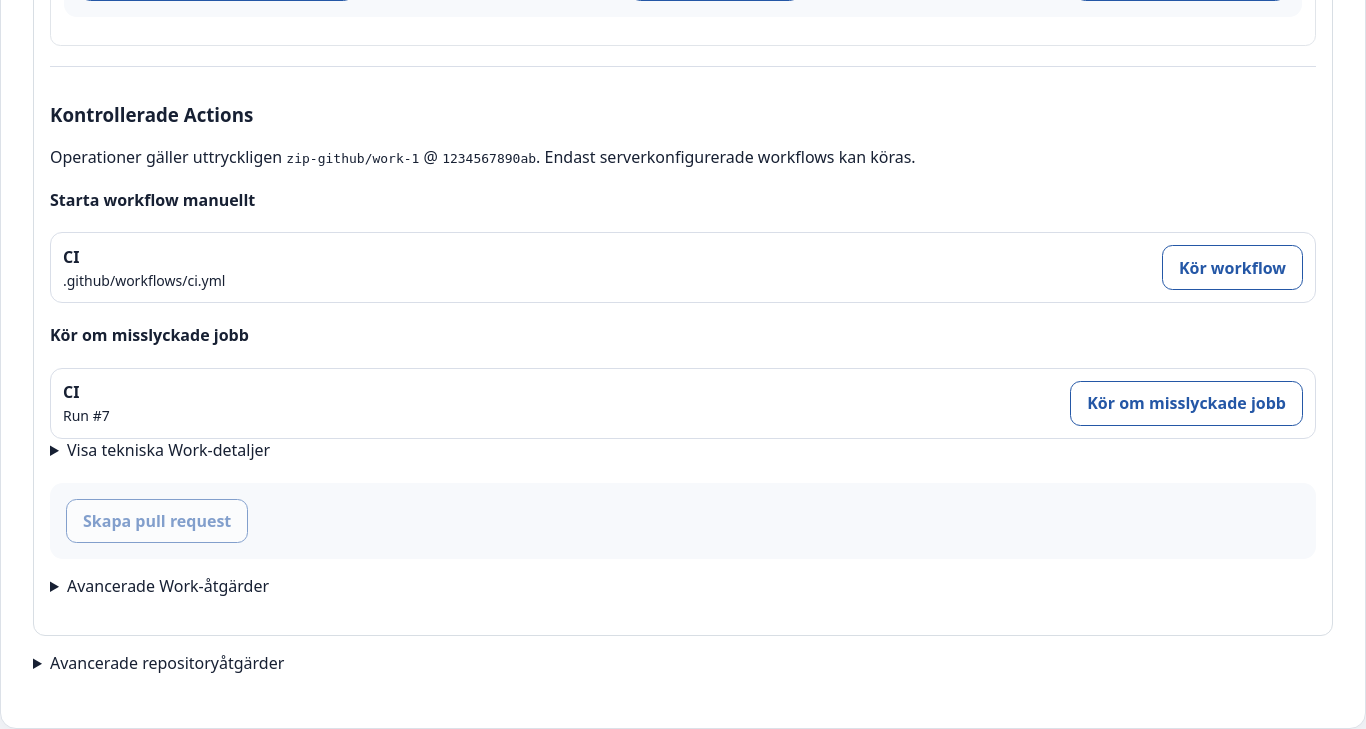
Test: ProjectDetailPage work history › shows Git commits on demand and only the active import in the primary project view
(page scrolled)
Click the heading "Visa tekniska Work-detaljer" at {"x": 169, "y": 450}, box [67,438,270,460]
(page scrolled)
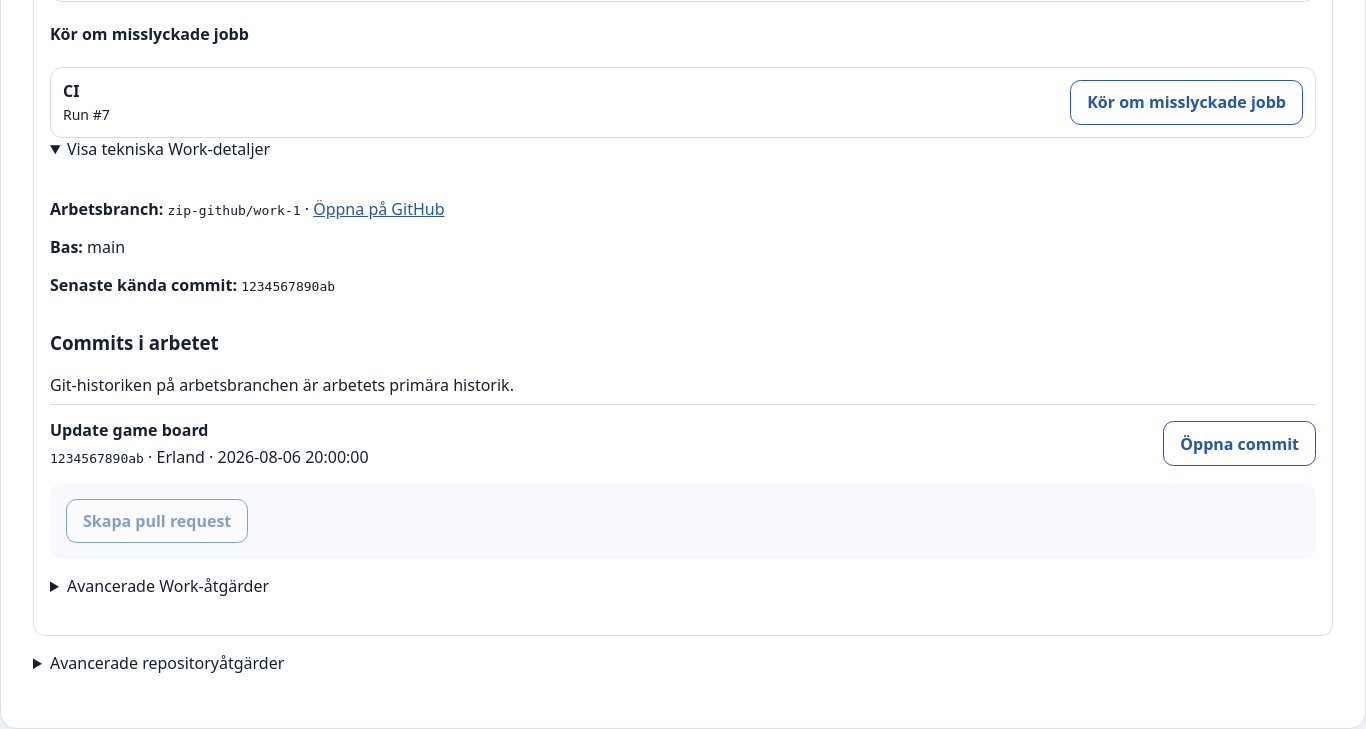
Expected: the heading "Commits i arbetet" is shown, [50,330,219,355]
Expected: the text "Update game board" is shown, [50,419,208,441]
Expected: the element "Commits i arbetet" is shown, [50,312,1316,482]
